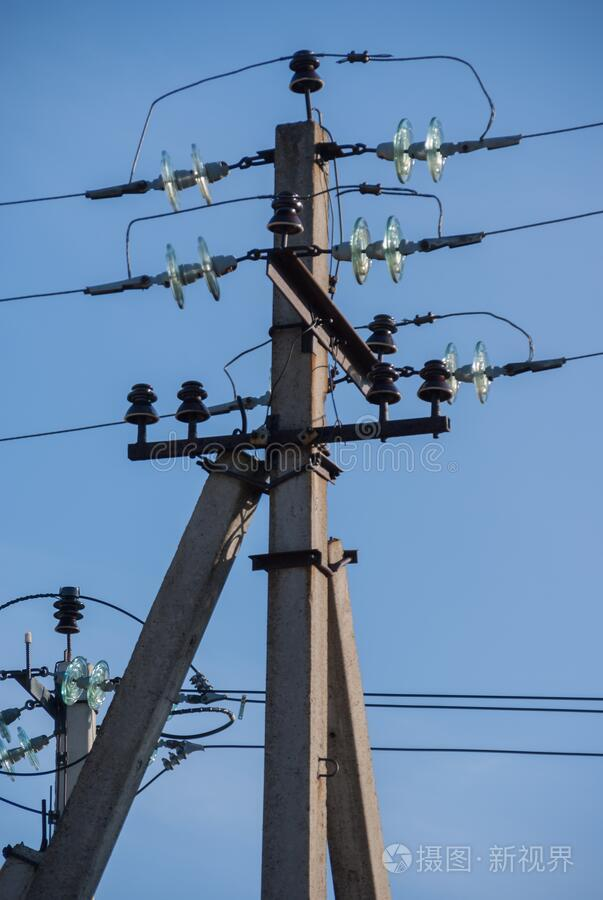insulator: (159, 138, 216, 215), (165, 236, 222, 308), (393, 116, 446, 187), (350, 218, 405, 285), (441, 339, 493, 406), (58, 655, 110, 711), (1, 728, 40, 781)
